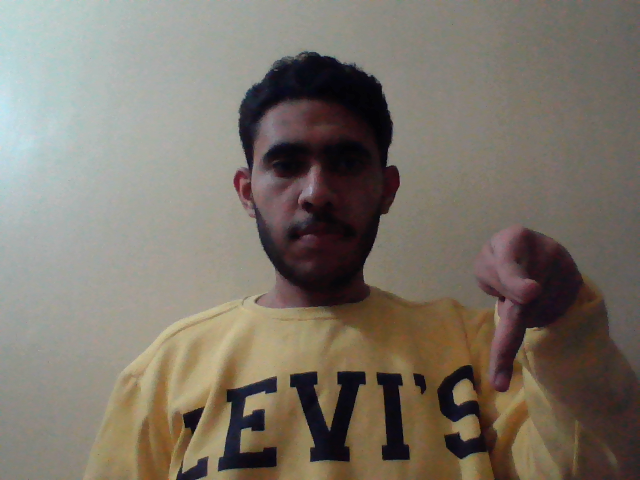P: (469, 223, 584, 394)
